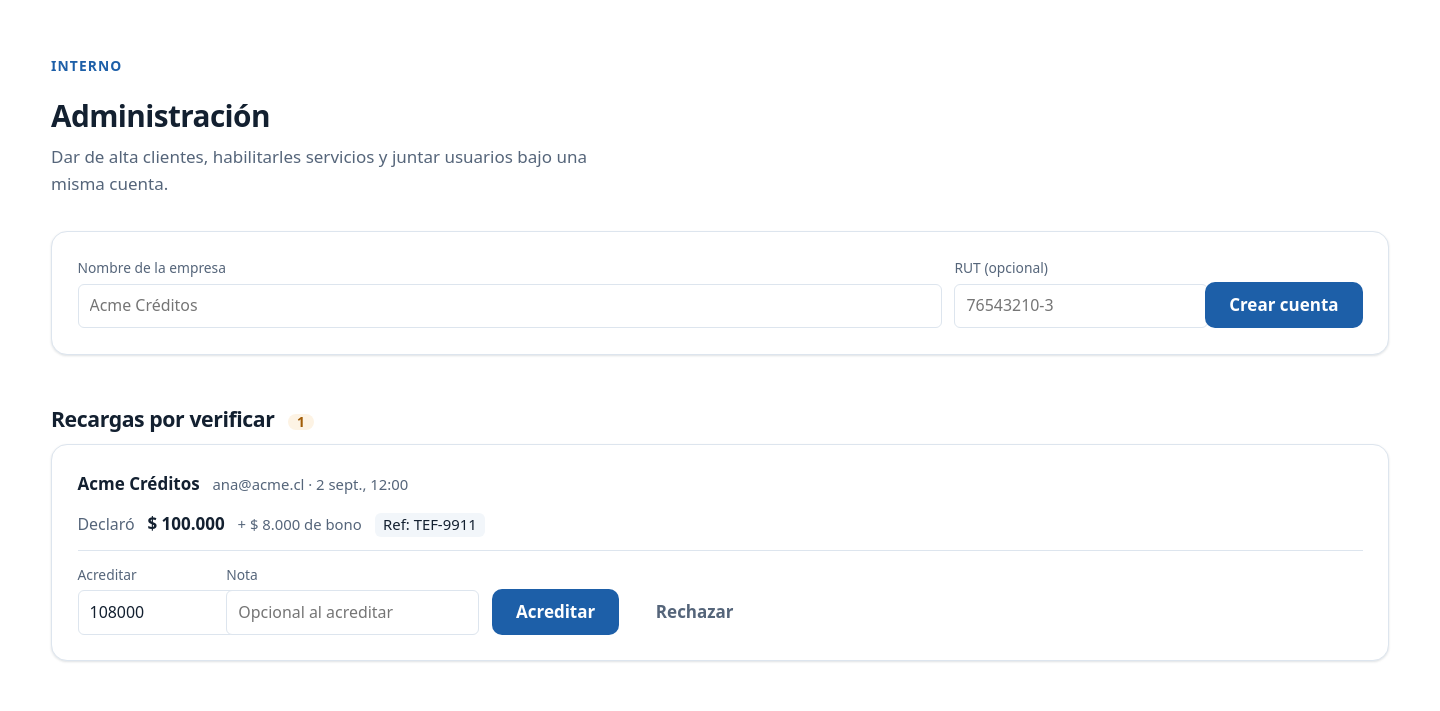
Test: AdminComponent › no rechaza una recarga sin motivo
Click the button with class "btn--ghost". click: (695, 612)
box: [632,589,758,635]
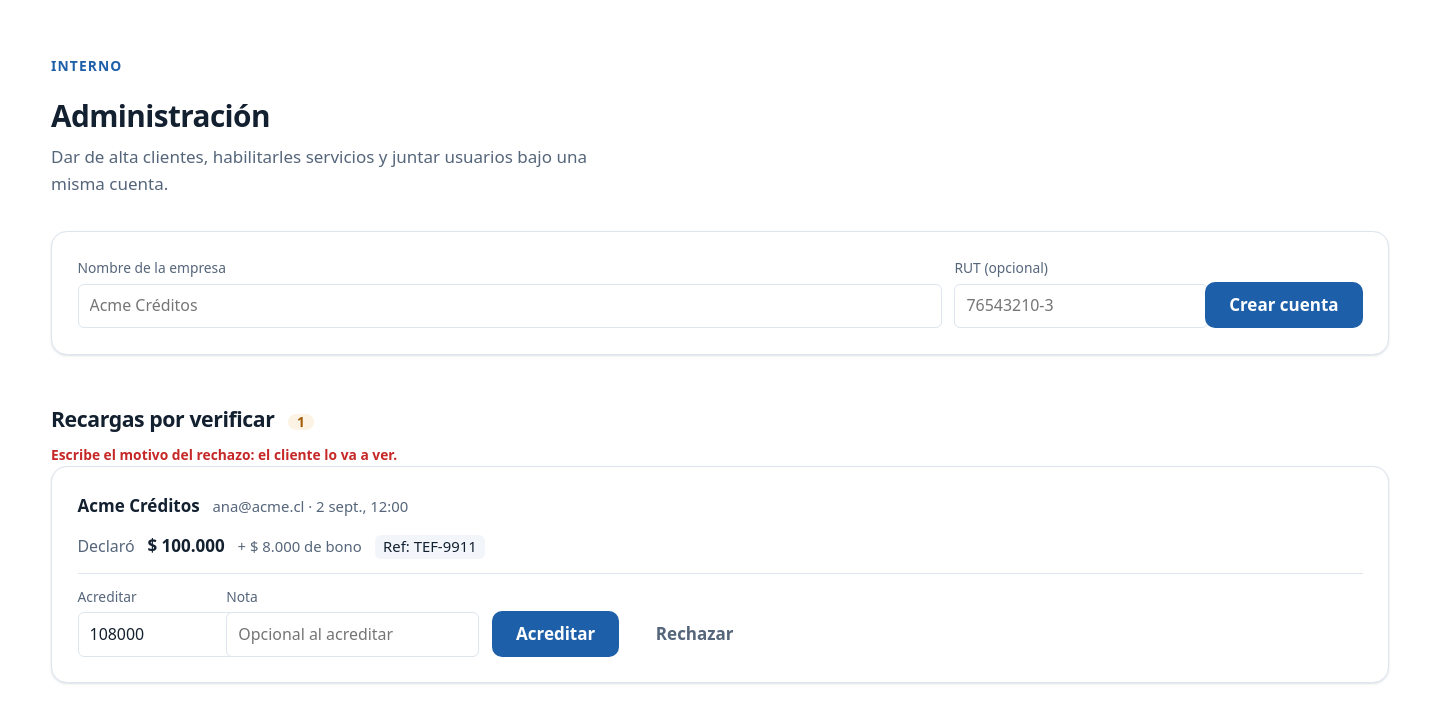
Expected: the message with class "field__error" shows "motivo", [51,445,397,464]
